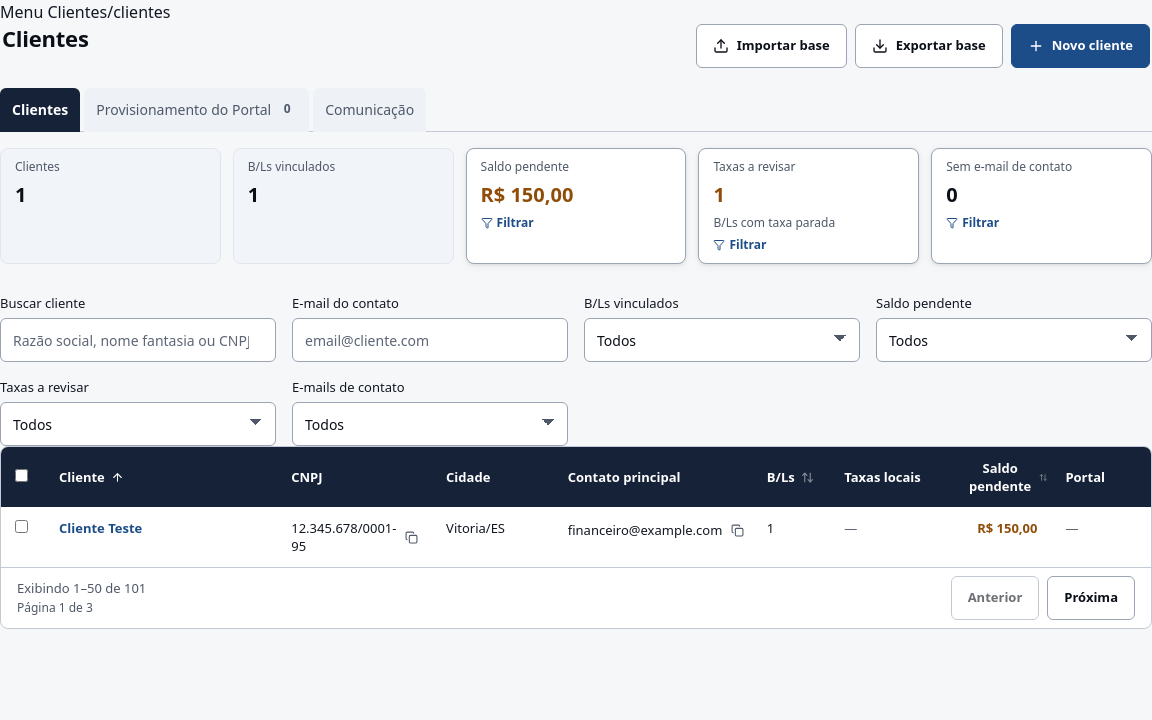
it: Clientes page behaviours › normalizes a pasted alphanumeric CNPJ immediately
Click the button "Novo cliente". click: (1080, 46)
box: x1=1011 y1=24 x2=1150 y2=68
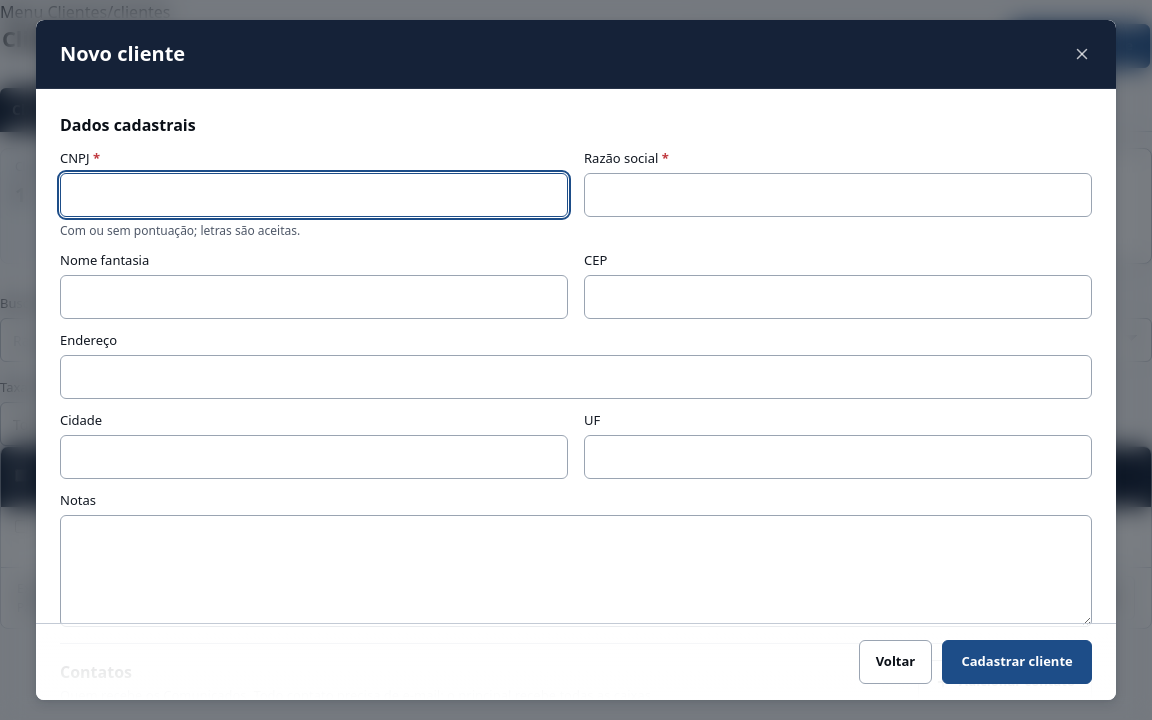
Type "12.ABC.345/01DE-35" into the field labelled "CNPJ *". click: (314, 195)
box: x1=60 y1=173 x2=568 y2=217
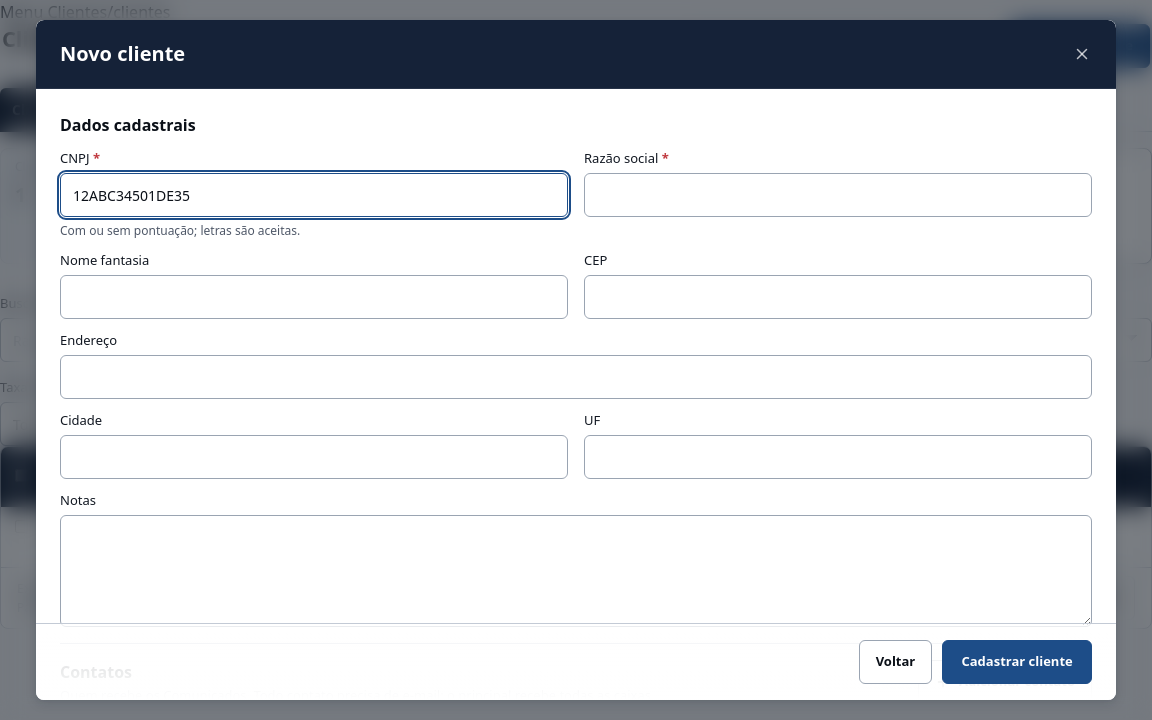
Expected: the field labelled "CNPJ *" holds "12ABC34501DE35", x1=60 y1=173 x2=568 y2=217
